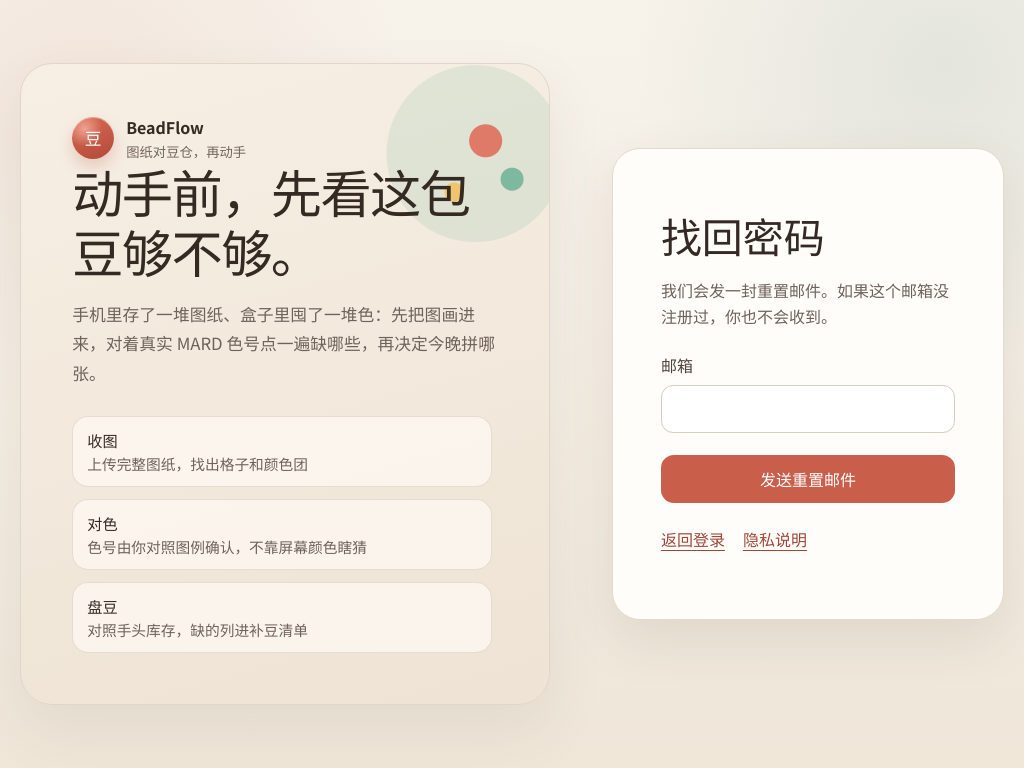
Test: authenticated application shell › uses a non-enumerating reset message and trims the email
Expected: the heading "找回密码" is shown, [661,205,825,265]
Type "  maker@example.com  " into the field labelled "邮箱" at (808, 409), box [661,385,955,433]
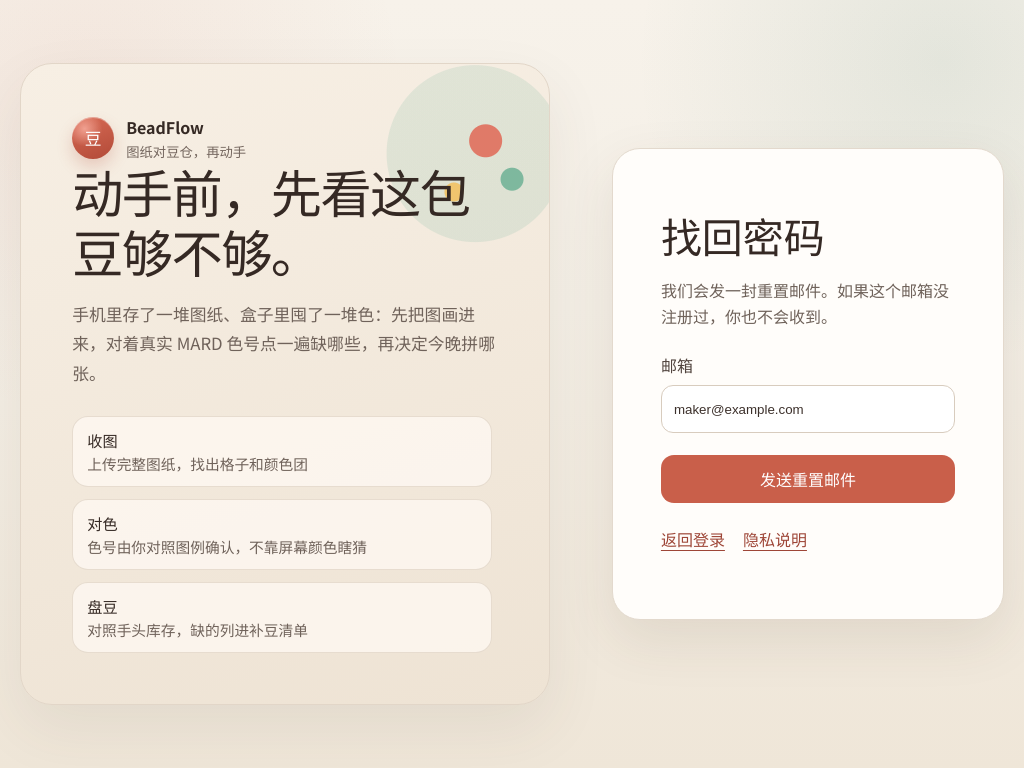
Click the button "发送重置邮件" at (808, 479), box [661,455,955,503]
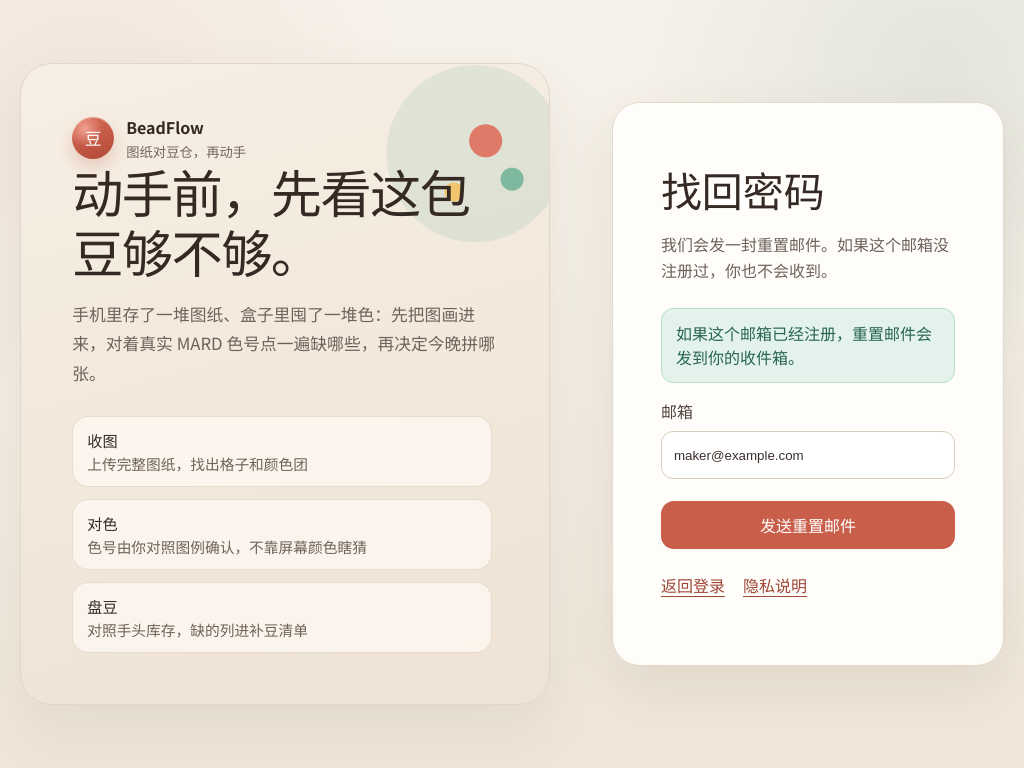
Expected: the message shows "如果这个邮箱已经注册", [676,321,932,369]
